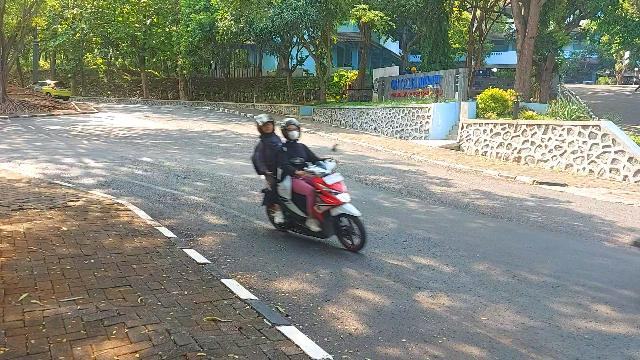helm: (283, 119, 302, 142), (258, 115, 276, 135)
motor: (261, 145, 367, 253)
